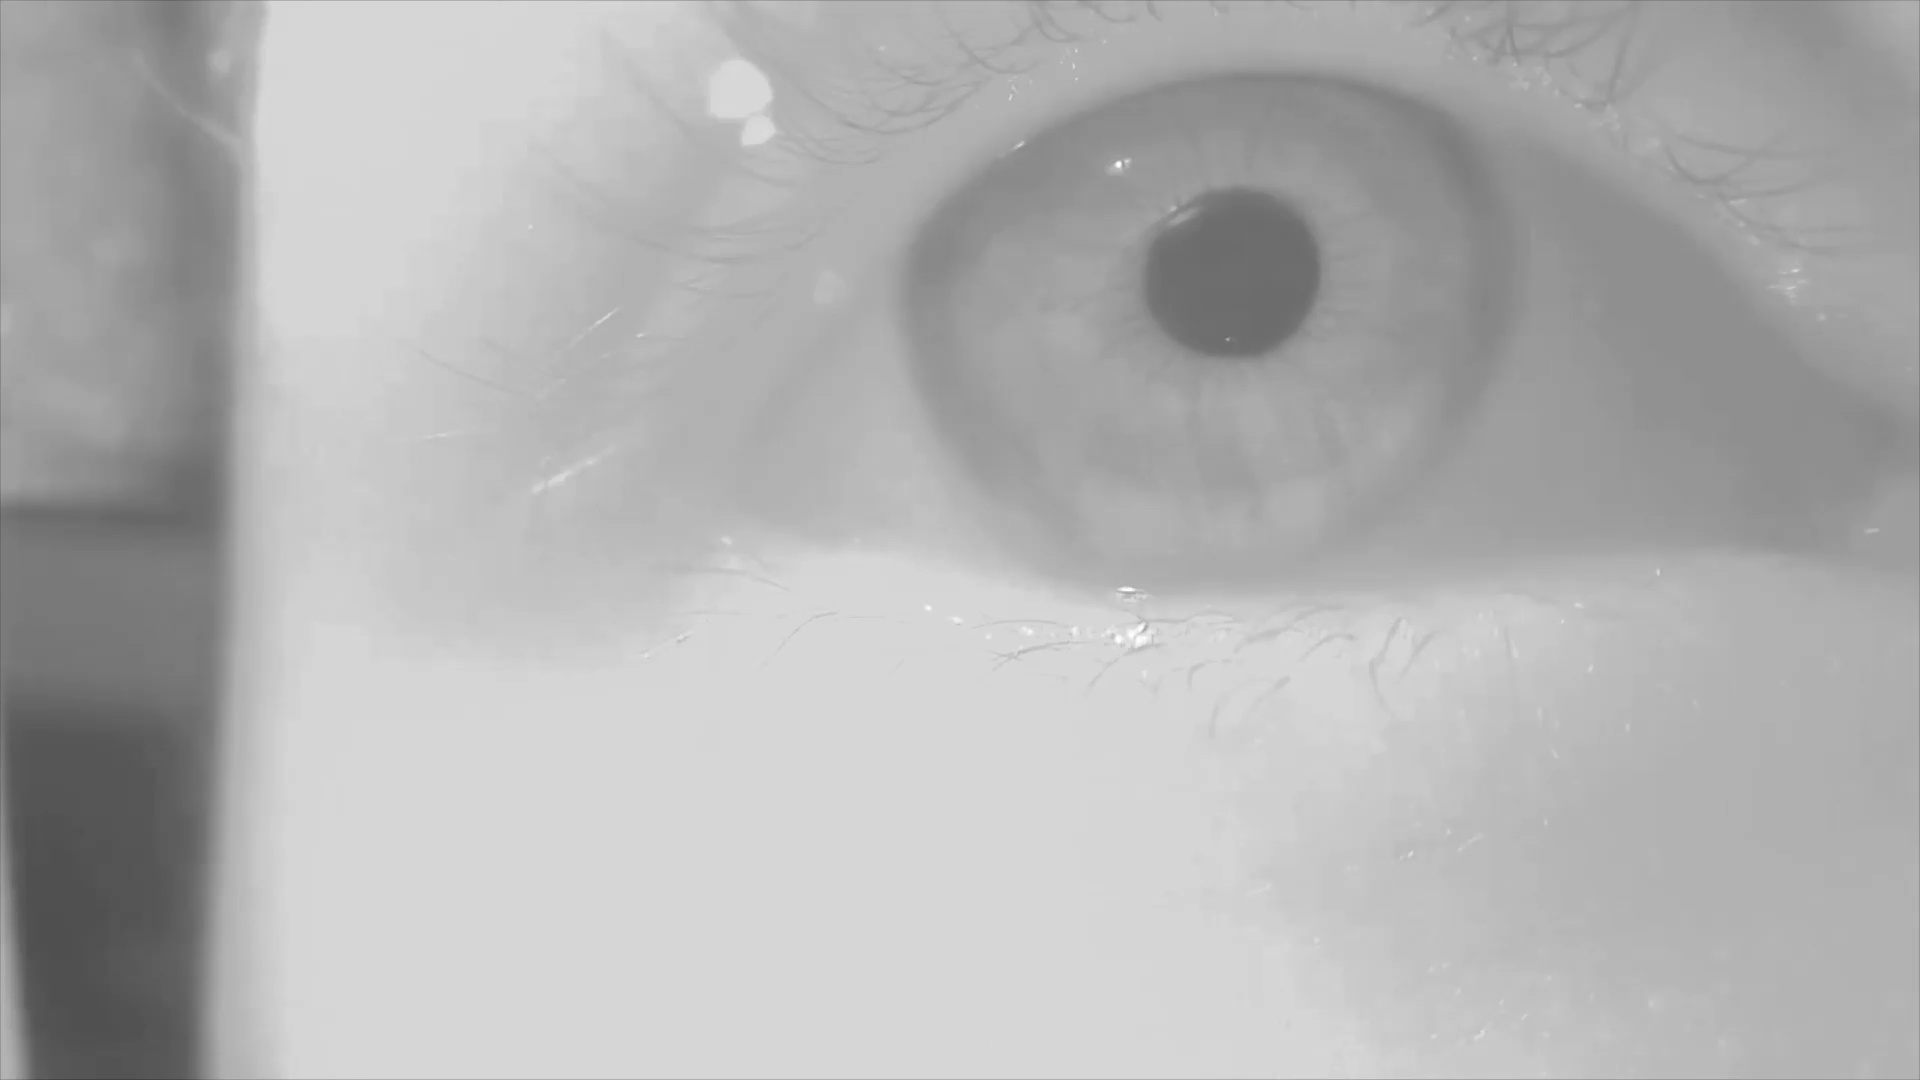pupil: (1149, 187, 1321, 364)
